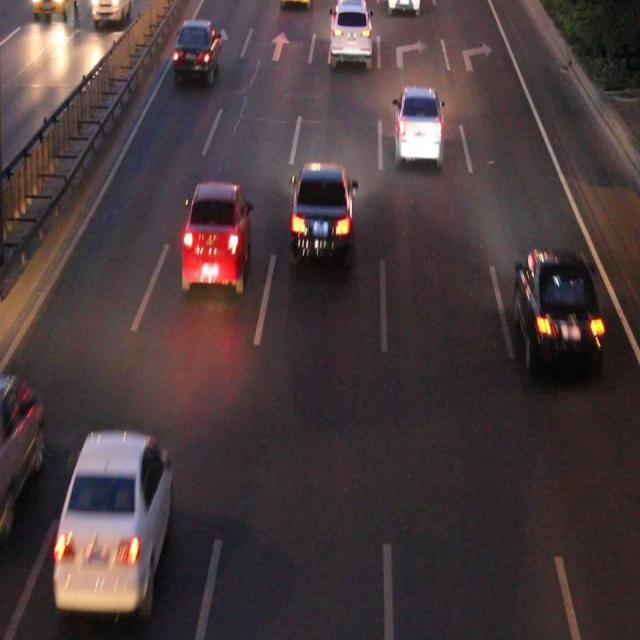car: (55, 432, 171, 609), (516, 250, 600, 369), (182, 184, 249, 285), (0, 372, 42, 520), (292, 164, 354, 263), (394, 90, 441, 164), (175, 23, 220, 79), (331, 1, 370, 61)
